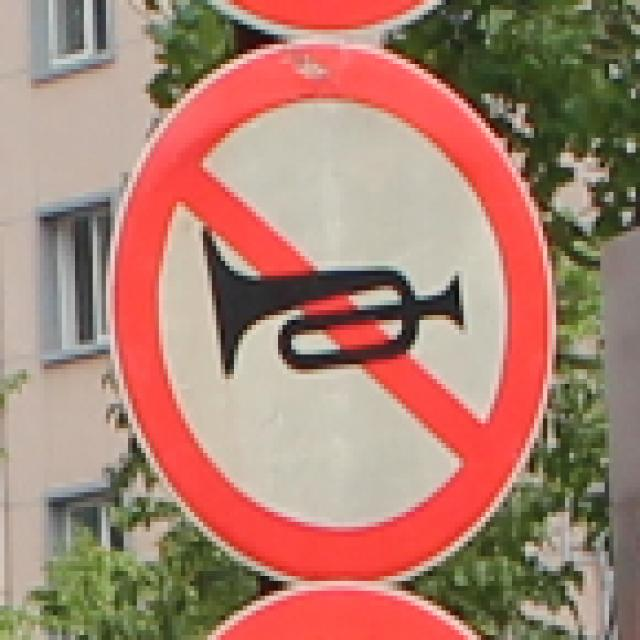No Horn: (101, 38, 555, 586)
